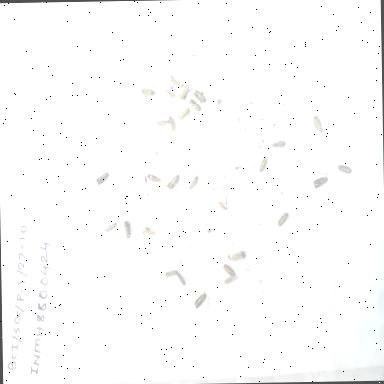pbw: (334, 160, 358, 178), (311, 170, 330, 192), (136, 84, 156, 103), (192, 86, 210, 107), (100, 218, 118, 239), (256, 153, 272, 176), (186, 170, 200, 194), (96, 170, 111, 192), (146, 171, 166, 187), (192, 290, 208, 310), (187, 96, 203, 116), (175, 265, 187, 291), (166, 172, 180, 194), (274, 211, 291, 229), (141, 225, 158, 242), (166, 112, 178, 136), (228, 250, 248, 264), (122, 215, 132, 242), (168, 74, 184, 90), (220, 264, 238, 278), (224, 273, 241, 286), (314, 114, 324, 134), (270, 138, 286, 150), (179, 105, 190, 122), (179, 83, 190, 100), (164, 268, 178, 280), (156, 116, 168, 128)
